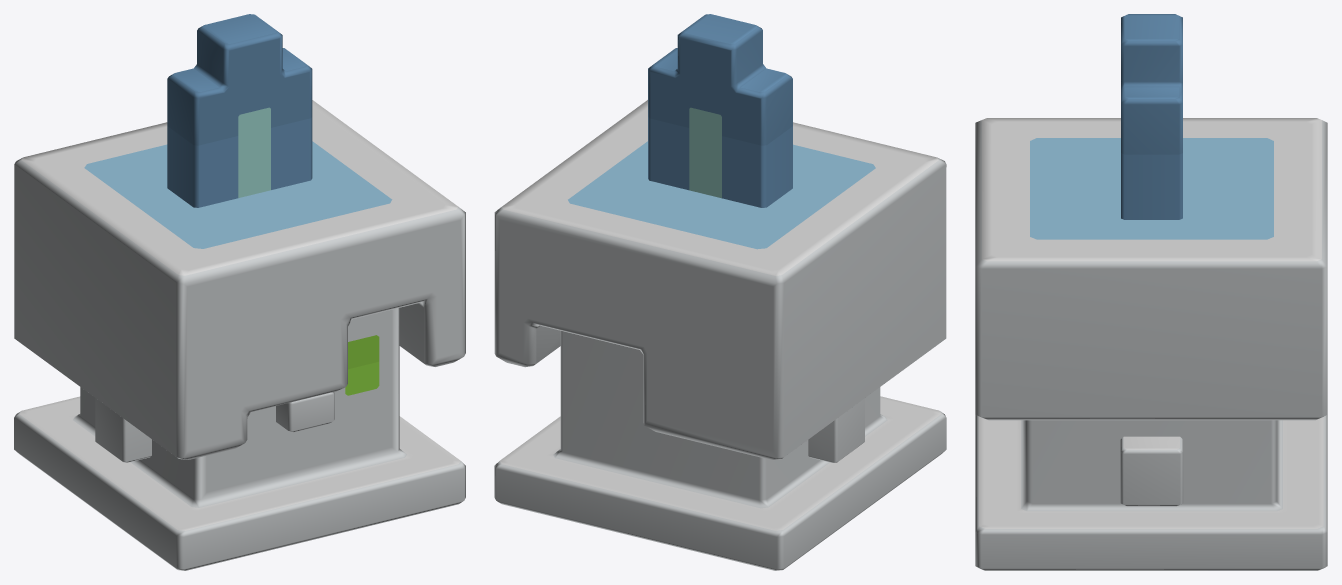
3 renders of one model, left to right at view 1: azimuth 30°, elevation 25°; view 2: azimuth 150°, elevation 25°; view 3: azimuth 270°, elevation 25°, orthographic. The views are drawn at different scales.
Parts seen in each view (by area): view 1: model; view 2: model; view 3: model.
Boxes of the visible parts, left/top/right/bottom form: model: left=14, top=14, right=465, bottom=570; model: left=494, top=14, right=946, bottom=570; model: left=975, top=14, right=1327, bottom=570.
Bounding box in the file's own units: 1.12 × 1.66 × 1.13.
